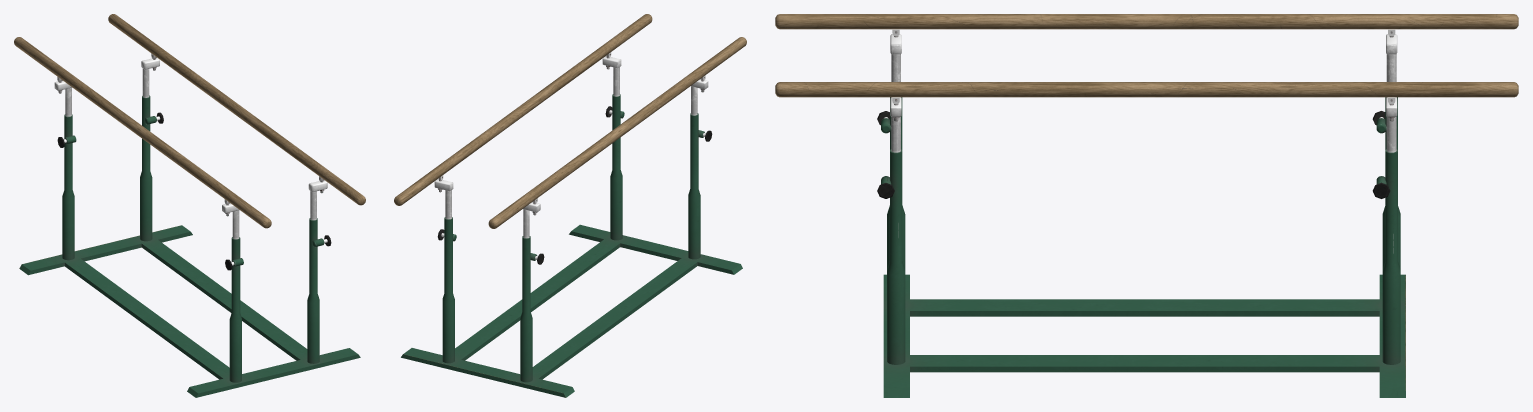
The model's file is SportBrus1.FBX.
The picture shows the model from 3 angles, left to right: view 1: azimuth 30°, elevation 25°; view 2: azimuth 150°, elevation 25°; view 3: azimuth 270°, elevation 25°; orthographic projection. The views are drawn at different scales.
Parts seen in each view (by area): view 1: SportBrus01_LOD0, SportBrus01_PhyMetal; view 2: SportBrus01_LOD0, SportBrus01_PhyMetal; view 3: SportBrus01_LOD0, SportBrus01_PhyMetal.
Boxes of the visible parts, x1,y1,x2,y2 form: SportBrus01_LOD0: (14,14,365,397); SportBrus01_PhyMetal: (22,95,359,396); SportBrus01_LOD0: (394,14,746,397); SportBrus01_PhyMetal: (402,115,739,396); SportBrus01_LOD0: (775,14,1518,397); SportBrus01_PhyMetal: (883,149,1405,389).
Size of what is drawn, in the model's own units: 1228 by 1395 by 3237.
